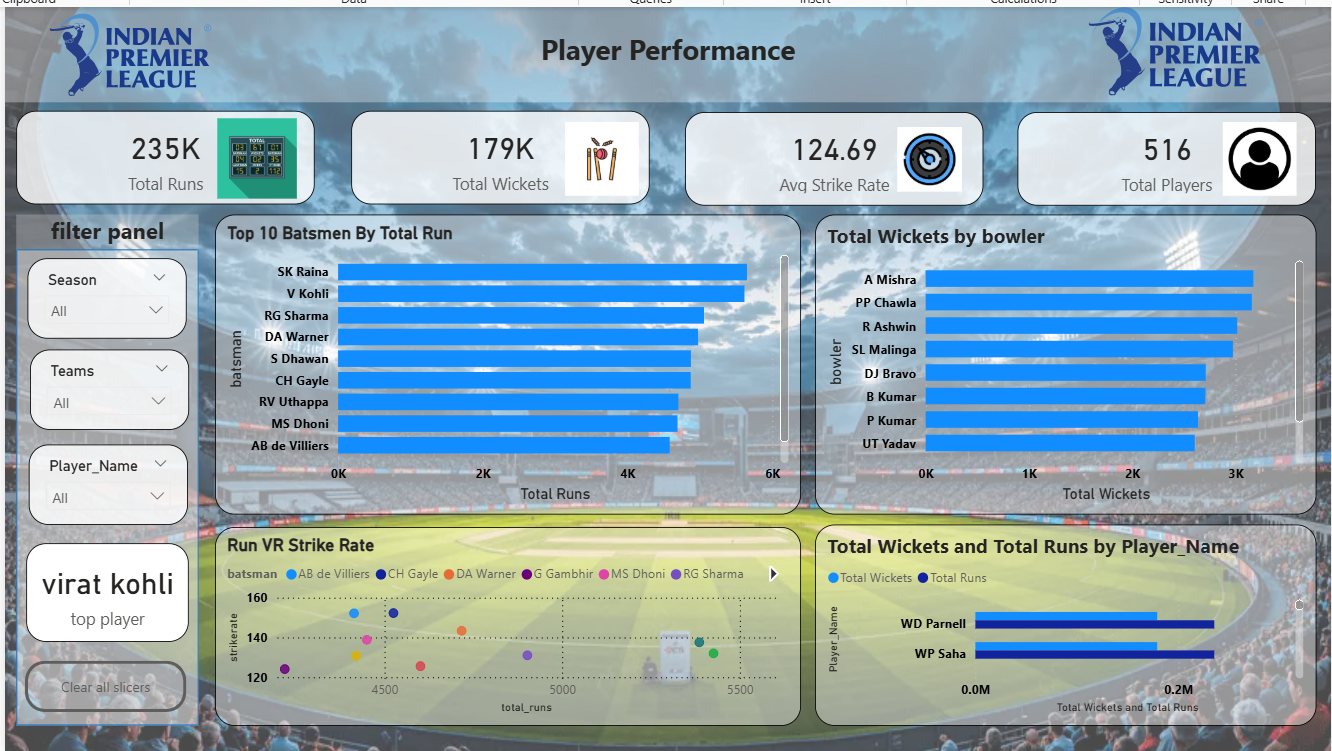

What the dashboard file says about the page in this screenshot:
{"tool":"powerbi","page":{"name":"PLAYER PERFORMANCE","canvas":[1280,720],"ordinal":3},"visuals":[{"type":"textbox","box":[0,0,1280,91.7],"z":0},{"type":"barChart","title":"Top 10 Batsmen By Total Run","fields":{"Y":["deliveries.Total Runs"],"Category":["deliveries.batsman"]},"box":[202.7,200.3,565.8,289.5],"z":1000},{"type":"barChart","fields":{"Category":["deliveries.bowler"],"Y":["Teamss.Total Wickets"]},"box":[781.8,200.3,483.8,289.5],"z":2000},{"type":"scatterChart","title":"Run VR Strike Rate","fields":{"X":["most_runs_average_strikerate.total_runs"],"Y":["most_runs_average_strikerate.strikerate"],"Series":["deliveries.batsman"]},"box":[202.7,501.9,565.8,191.8],"z":3000},{"type":"clusteredBarChart","fields":{"Category":["players.Player_Name"],"Y":["Teamss.Total Wickets","deliveries.Total Runs"]},"box":[781.8,499.5,483.8,194.2],"z":4000},{"type":"card","fields":{"Values":["deliveries.Total Runs"]},"box":[10.9,100.1,288.3,90.5],"z":5000},{"type":"card","fields":{"Values":["Teamss.Total Wickets"]},"box":[334.2,100.1,288.3,90.5],"z":6000},{"type":"card","fields":{"Values":["Teamss.Avg Strike Rate"]},"box":[656.3,101.3,288.3,90.5],"z":7000},{"type":"card","fields":{"Values":["Teamss.Total Players"]},"box":[977.2,101.3,288.3,90.5],"z":8000},{"type":"shape","title":"filter panel","box":[10.9,200.3,176.1,493.4],"z":9000},{"type":"slicer","fields":{"Values":["matches.Season"]},"box":[21.7,242.5,153.2,77.2],"z":10000},{"type":"slicer","fields":{"Values":["teams name.Column1"]},"box":[24.1,330.6,153.2,77.2],"z":11000},{"type":"slicer","fields":{"Values":["players.Player_Name"]},"box":[22.9,422.3,153.2,77.2],"z":12000},{"type":"actionButton","box":[19.3,631,155.6,49.5],"z":13000},{"type":"image","box":[164.1,107.4,158,77.2],"z":14000},{"type":"image","box":[479,111,194.2,71.2],"z":15000},{"type":"image","box":[818,115.8,148.4,62.7],"z":16000},{"type":"image","box":[1157,111,108.6,71.2],"z":17000},{"type":"card","fields":{"Values":["Teamss.top player"]},"box":[20.5,517.6,156.8,95.3],"z":18000},{"type":"image","box":[0,6,242.5,79.6],"z":19000},{"type":"image","box":[979.6,0,300.4,85.7],"z":20000}]}

Visuals, with their boxes on the page's 1280x720 design canvas (x1, y1, x2, y2). These are canvas units, not pixel positions in the 1332x751 screenshot, which may show the page scaled, cropped or inside an application window:
textbox: 0,0,1280,92
"Top 10 Batsmen By Total Run" barChart: 203,200,768,490
barChart - deliveries.bowler x Teamss.Total Wickets: 782,200,1266,490
"Run VR Strike Rate" scatterChart: 203,502,768,694
clusteredBarChart - players.Player_Name x Teamss.Total Wickets: 782,500,1266,694
card - deliveries.Total Runs: 11,100,299,191
card - Teamss.Total Wickets: 334,100,622,191
card - Teamss.Avg Strike Rate: 656,101,945,192
card - Teamss.Total Players: 977,101,1266,192
"filter panel" shape: 11,200,187,694
slicer - matches.Season: 22,242,175,320
slicer - teams name.Column1: 24,331,177,408
slicer - players.Player_Name: 23,422,176,500
actionButton: 19,631,175,680
image: 164,107,322,185
image: 479,111,673,182
image: 818,116,966,178
image: 1157,111,1266,182
card - Teamss.top player: 20,518,177,613
image: 0,6,242,86
image: 980,0,1280,86
